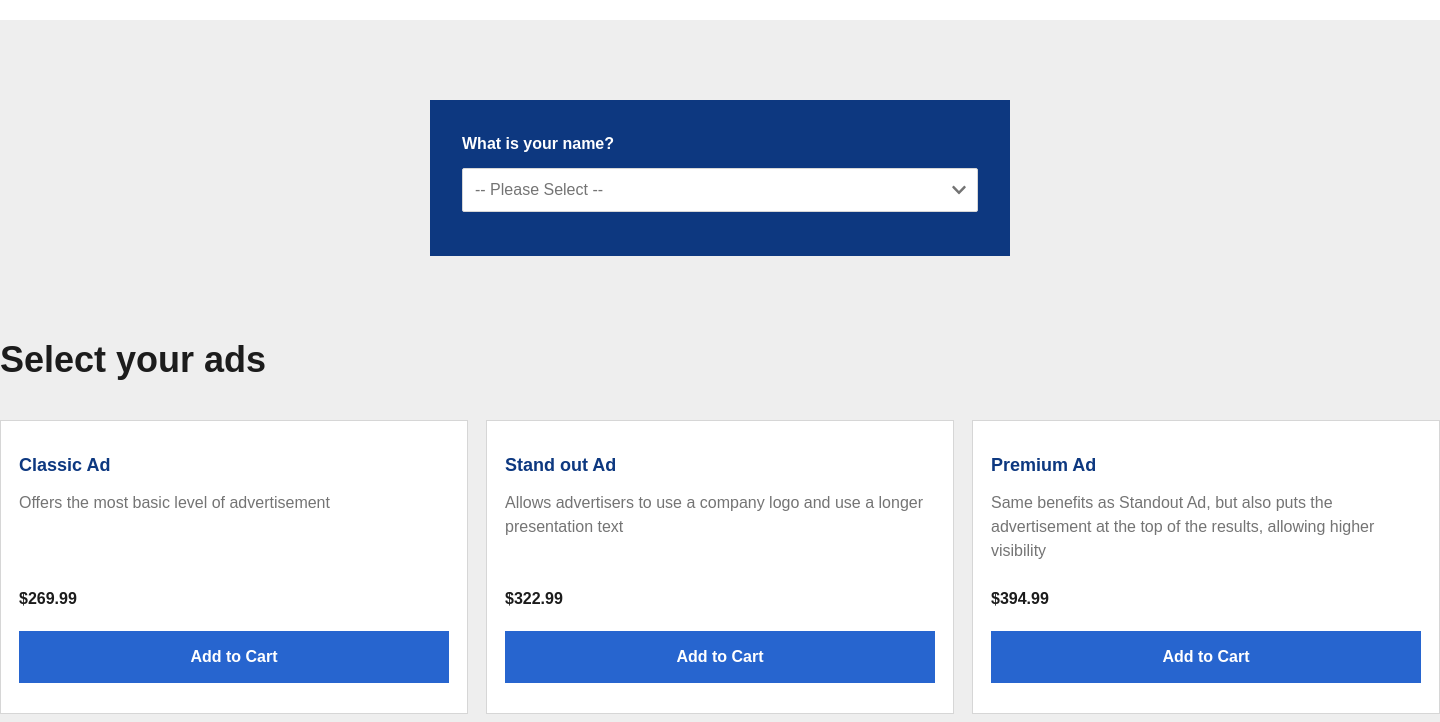
<App /> › Add item to cart › should display the right quantity in the cart
The image size is (1440, 722).
Click the button with test id "classic-add-to-cart-btn" at (234, 657), box x1=19 y1=631 x2=449 y2=683
(page scrolled)
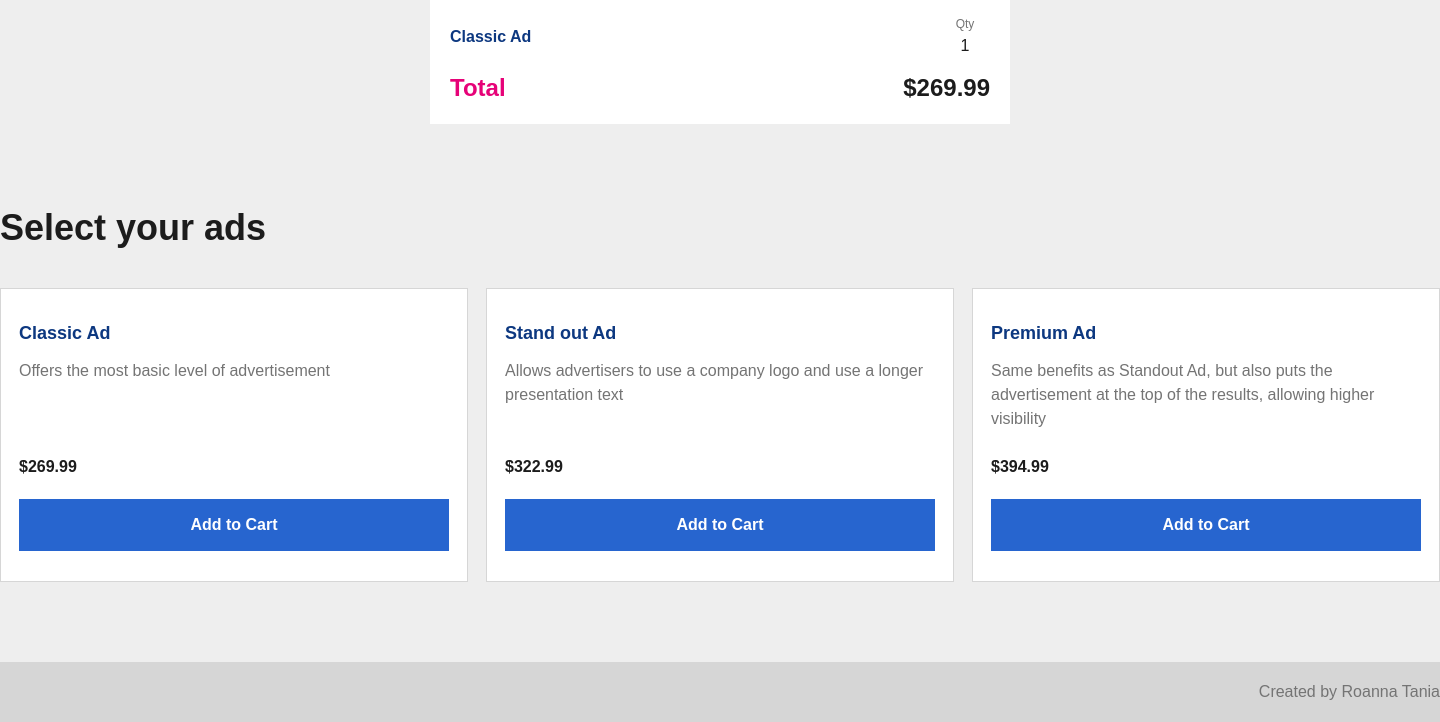
Click the button with test id "classic-add-to-cart-btn" at (234, 525), box x1=19 y1=499 x2=449 y2=551
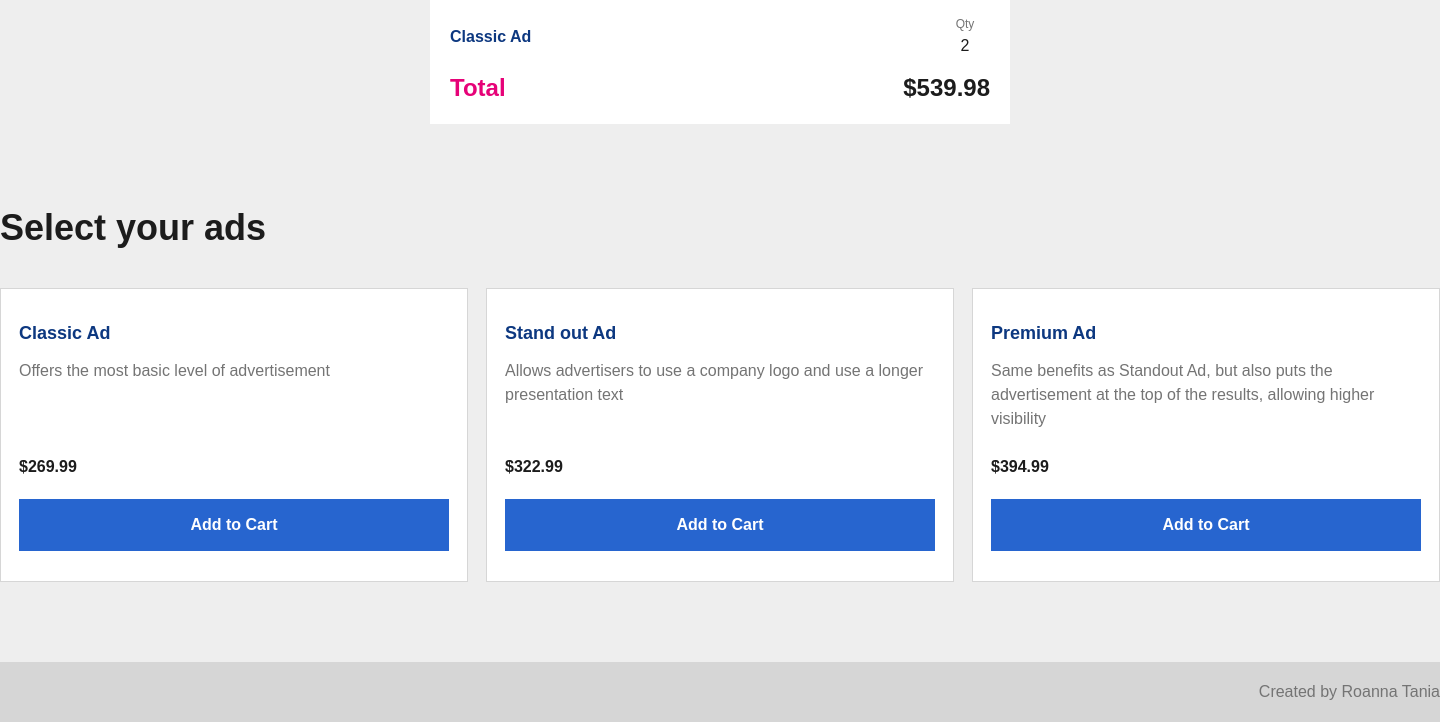
Click the button with test id "premium-add-to-cart-btn" at (1206, 525), box x1=991 y1=499 x2=1421 y2=551
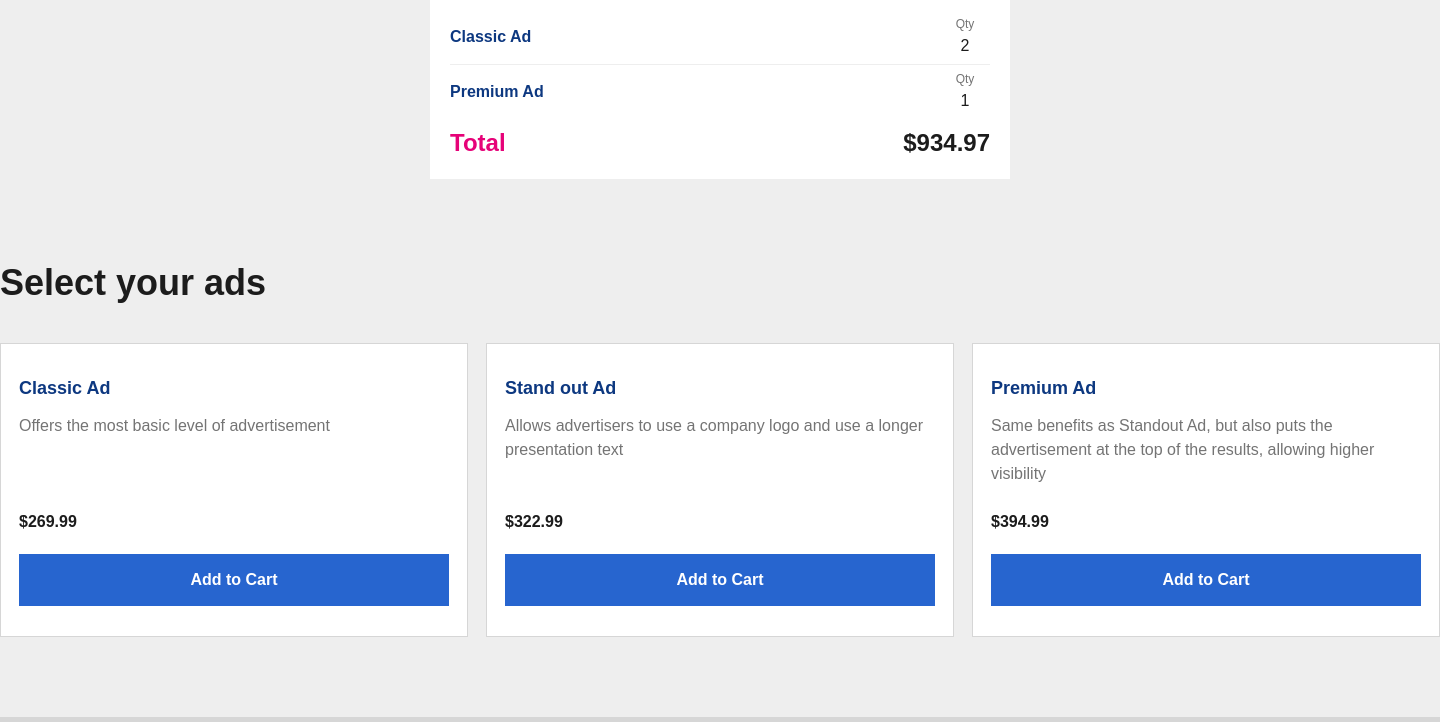
expect the text "2" is shown: met, box x1=960 y1=37 x2=969 y2=54
expect the text "1" is shown: met, box x1=960 y1=92 x2=969 y2=109
